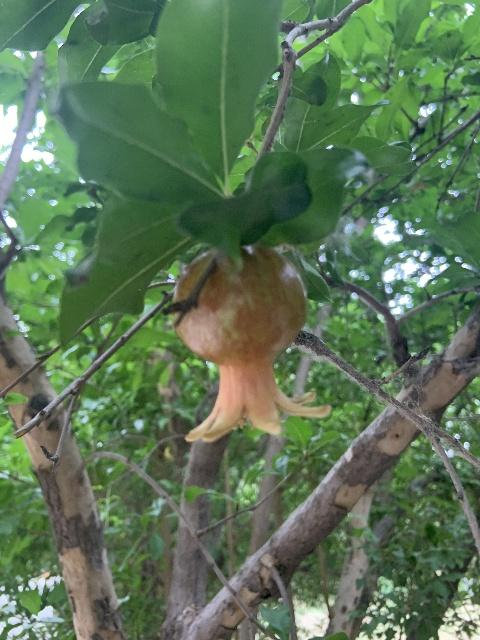early-fruit: (173, 245, 331, 442)
